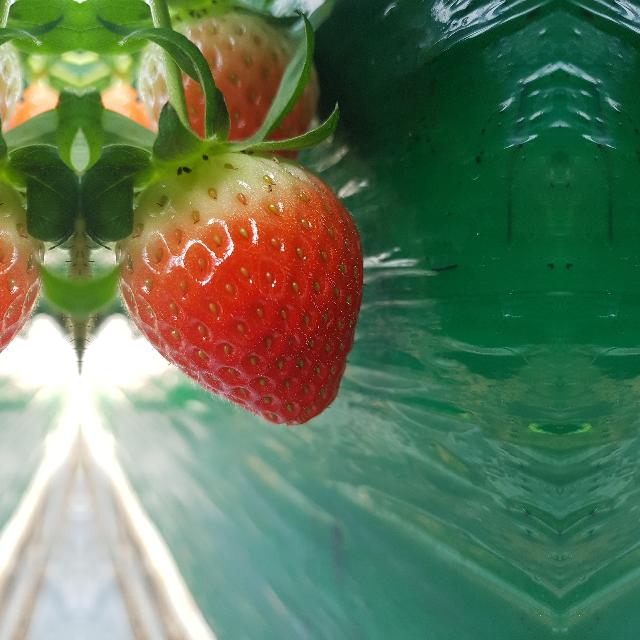Health_75: (113, 148, 365, 426)
